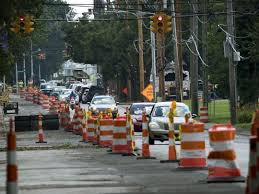barrel: (209, 127, 240, 180), (181, 123, 206, 167), (113, 121, 133, 152), (99, 118, 113, 141), (88, 116, 95, 138)
